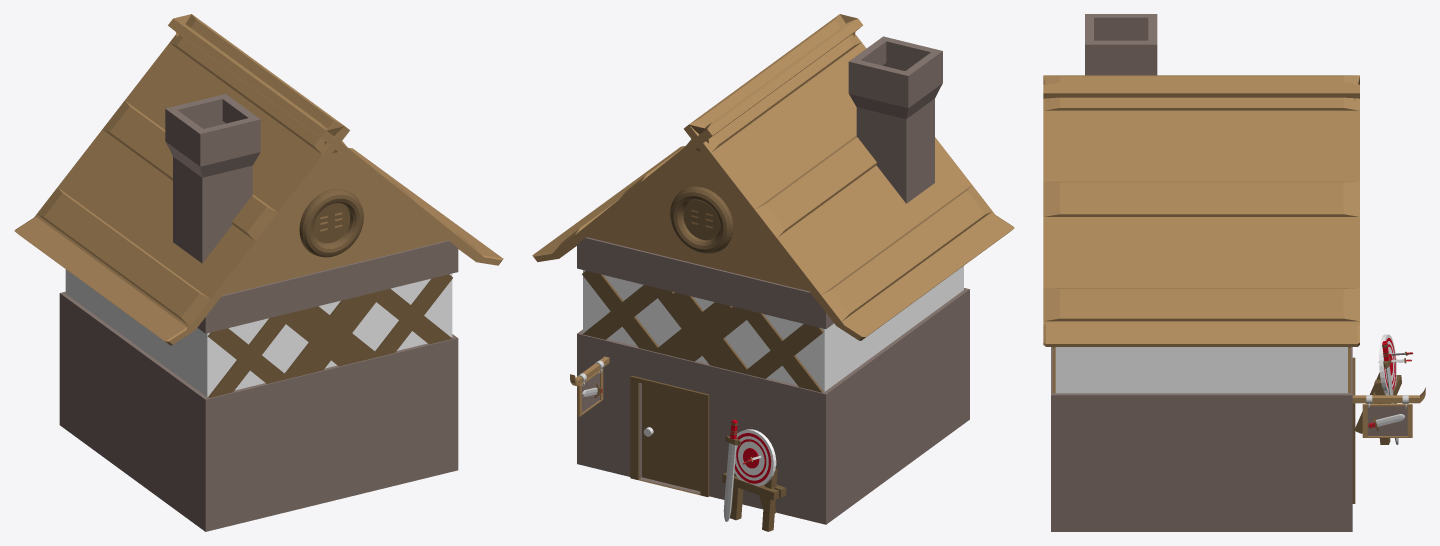
The model's file is casa das tropas (guardas).fbx.
The picture shows the model from 3 angles, left to right: view 1: azimuth 30°, elevation 25°; view 2: azimuth 150°, elevation 25°; view 3: azimuth 270°, elevation 25°; orthographic projection. The views are drawn at different scales.
Visible parts, largest first — view 1: Cube, Cube.002, Torus, Cube.008, Cube.001; view 2: Cube.002, Cube, Torus, Cube.008, Cube.001, Cube.004; view 3: Cube.002, Cube, Cube.001, Cube.008, Cube.004, Cube.003, Torus, Cube.007, Cube.006.
Part boxes in pixels (x1,y1,x2,y2): Cube: (59, 240, 458, 531); Cube.002: (14, 14, 503, 345); Torus: (65, 189, 452, 397); Cube.008: (165, 94, 260, 263); Cube.001: (65, 269, 452, 397); Cube.002: (532, 14, 1014, 340); Cube: (577, 237, 969, 524); Torus: (582, 186, 964, 496); Cube.008: (848, 36, 942, 203); Cube.001: (583, 266, 963, 391); Cube.004: (722, 419, 786, 531); Cube.002: (1043, 75, 1359, 346); Cube: (1051, 347, 1352, 531); Cube.001: (1055, 347, 1347, 393); Cube.008: (1085, 14, 1157, 75); Cube.004: (1355, 334, 1412, 444); Cube.003: (1367, 406, 1407, 435); Torus: (1052, 347, 1355, 503); Cube.007: (1362, 404, 1412, 437); Cube.006: (1352, 387, 1425, 403).
Bounding box in the file's own units: 268 × 290 × 253.
